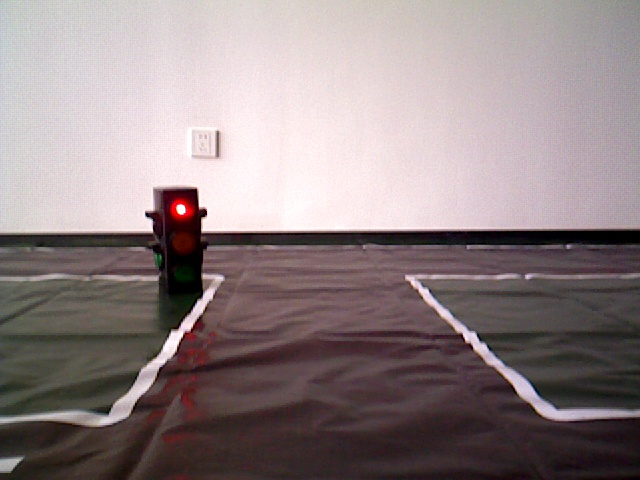red: (149, 192, 199, 298)
